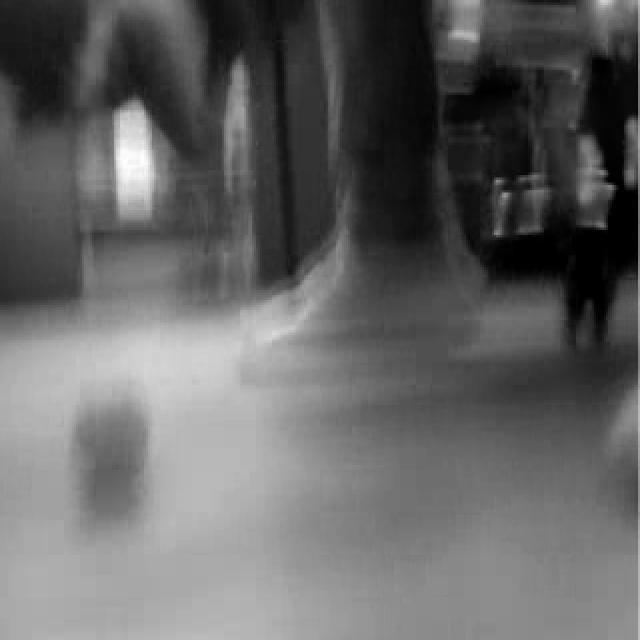ping-pong-ball: (72, 395, 158, 505)
